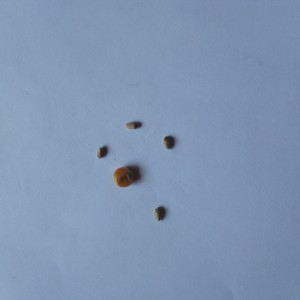maiz: (112, 162, 141, 190)
trigo: (124, 119, 147, 132), (160, 132, 176, 150), (94, 141, 109, 160), (153, 203, 166, 223)
